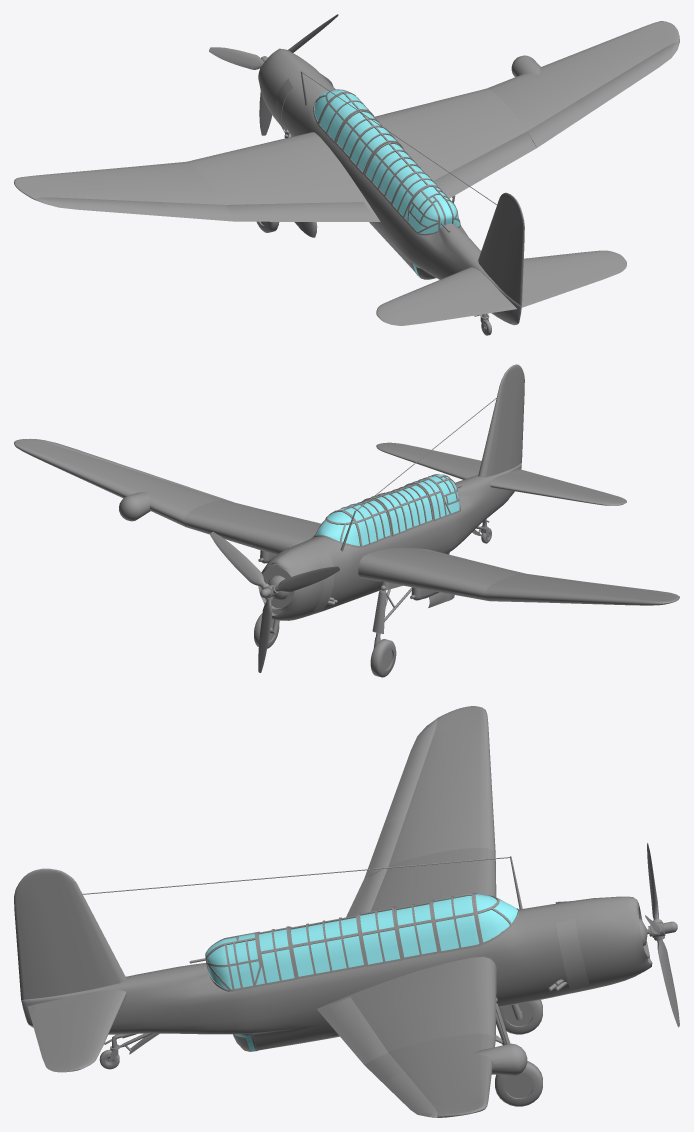
Rendered from TBY Sea Wolf 3.FBX.
3 views of the same model, one above another, from view 1: azimuth 30°, elevation 25°; view 2: azimuth 150°, elevation 25°; view 3: azimuth 270°, elevation 25° (orthographic). The views are drawn at different scales.
Visible parts, largest first — view 1: TBY Sea Wolf, Box004, glass; view 2: TBY Sea Wolf, glass, Box004; view 3: TBY Sea Wolf, Box004, glass.
Boxes of the visible parts, <box> form: TBY Sea Wolf: <box>187,14,679,335</box>; Box004: <box>14,161,235,221</box>; glass: <box>314,90,459,276</box>; TBY Sea Wolf: <box>14,364,626,677</box>; glass: <box>315,474,459,554</box>; Box004: <box>485,573,679,605</box>; TBY Sea Wolf: <box>14,843,679,1117</box>; Box004: <box>364,706,495,878</box>; glass: <box>205,894,517,1051</box>.
Size of the model in its own units: 1746 by 1207 by 401.
